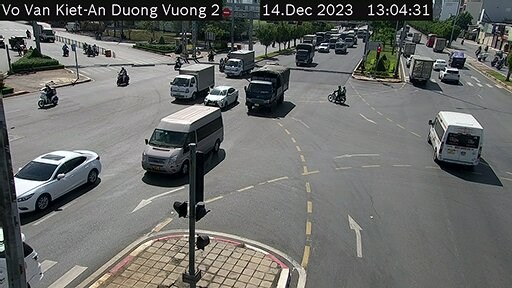car: (134, 99, 226, 172), (14, 147, 110, 212), (416, 107, 483, 163), (204, 87, 234, 107), (443, 66, 464, 83)
motorbike: (35, 83, 59, 117), (329, 83, 348, 111), (111, 66, 129, 89)
truck: (250, 68, 290, 124), (169, 67, 215, 100), (221, 49, 252, 81), (288, 42, 315, 75), (400, 57, 429, 85)
